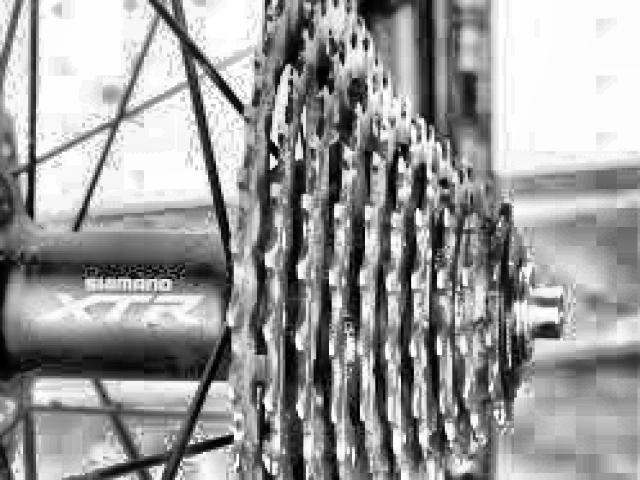cassette: (229, 0, 531, 480)
